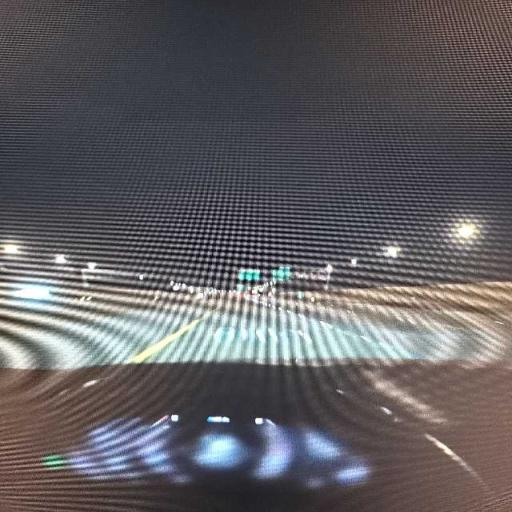lane: (0, 302, 503, 368)
